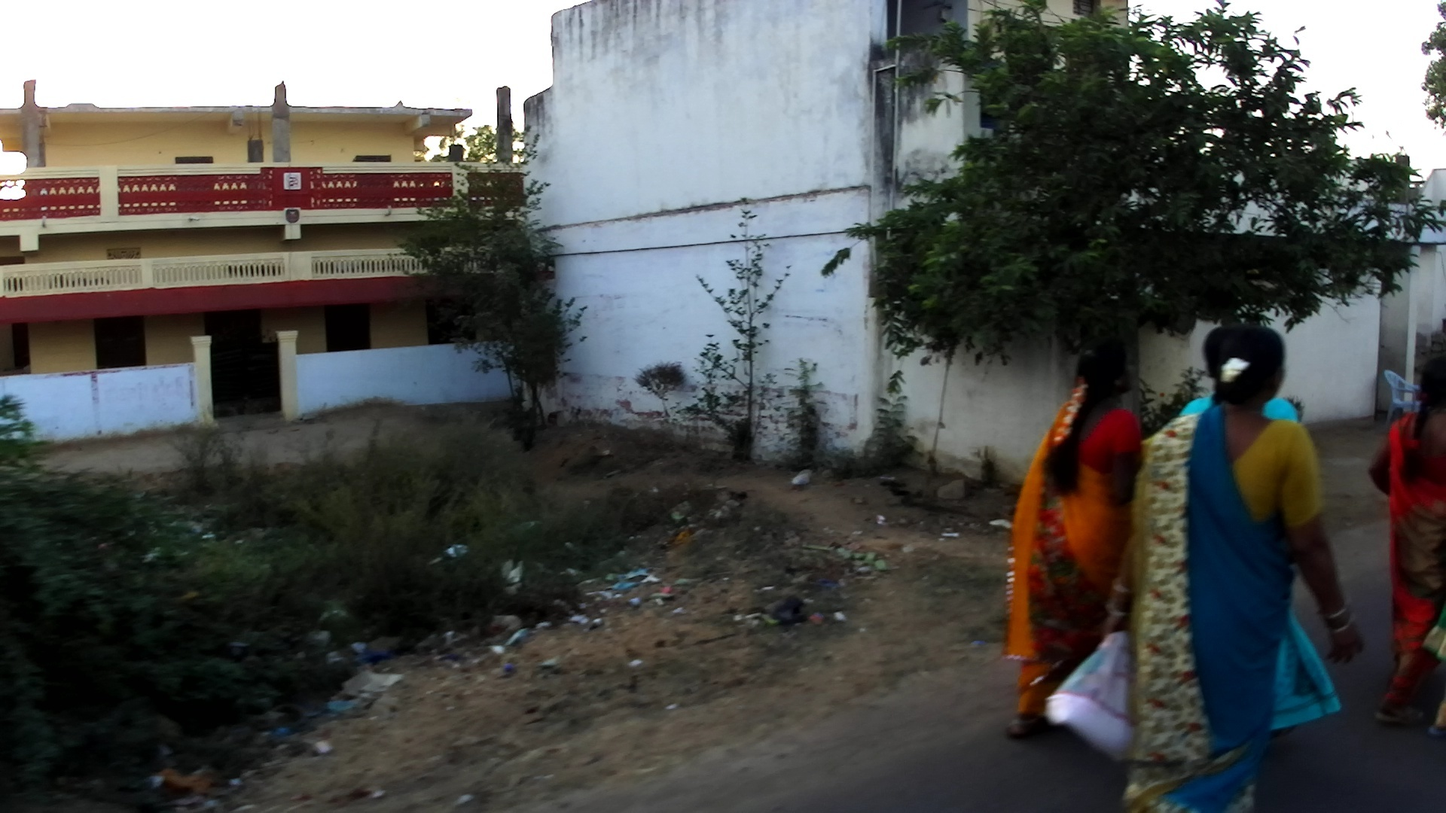person: (1045, 327, 1367, 813), (1179, 326, 1344, 741), (1000, 336, 1142, 744), (1364, 359, 1446, 733), (1420, 612, 1446, 739)
